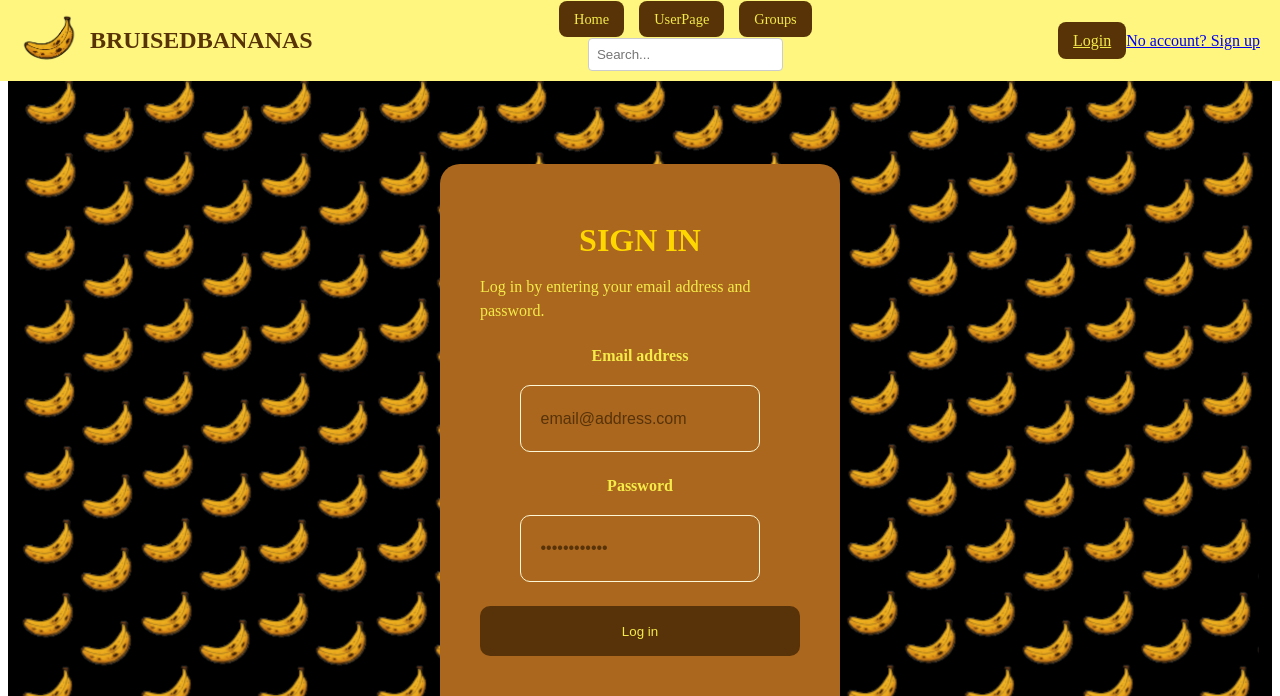
Login component (new tests) › shows backend error on invalid credentials
The width and height of the screenshot is (1280, 696).
Type "wrong@test.com" into the field with placeholder "email@address.com". click: (644,419)
box: left=538, top=393, right=750, bottom=445
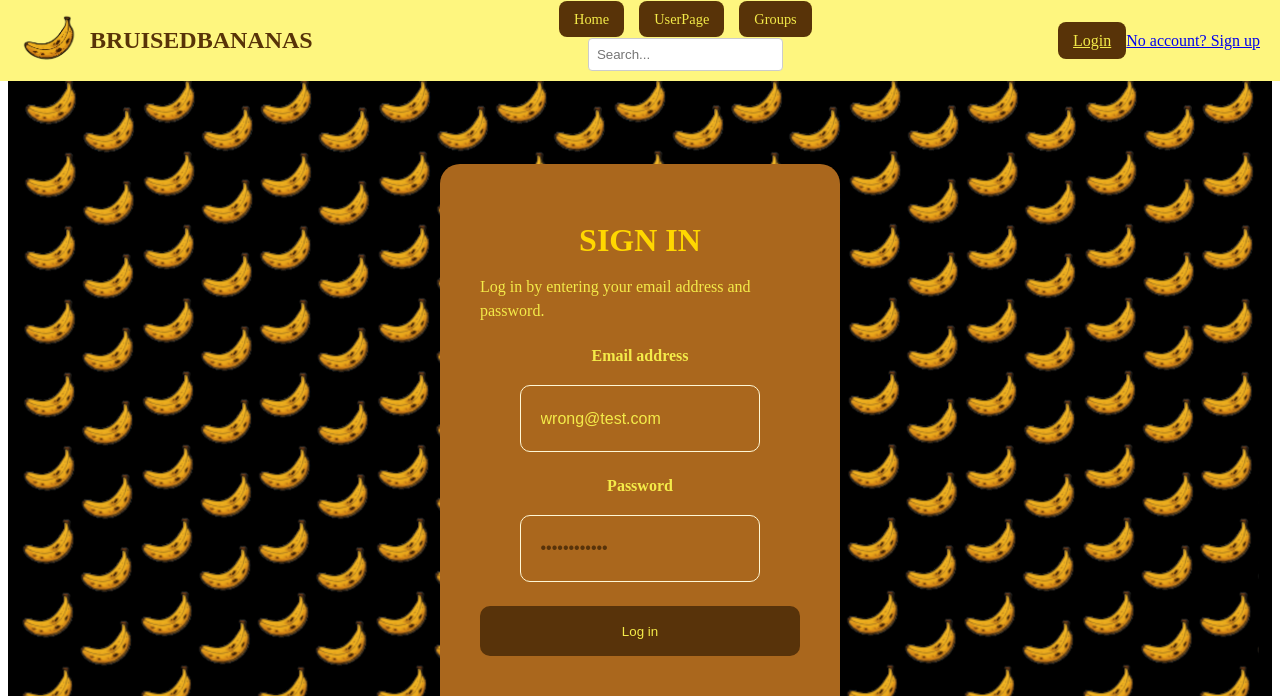
Type "wrongpass" into the password field with placeholder "••••••••••••". click: (644,548)
box: left=538, top=522, right=750, bottom=574
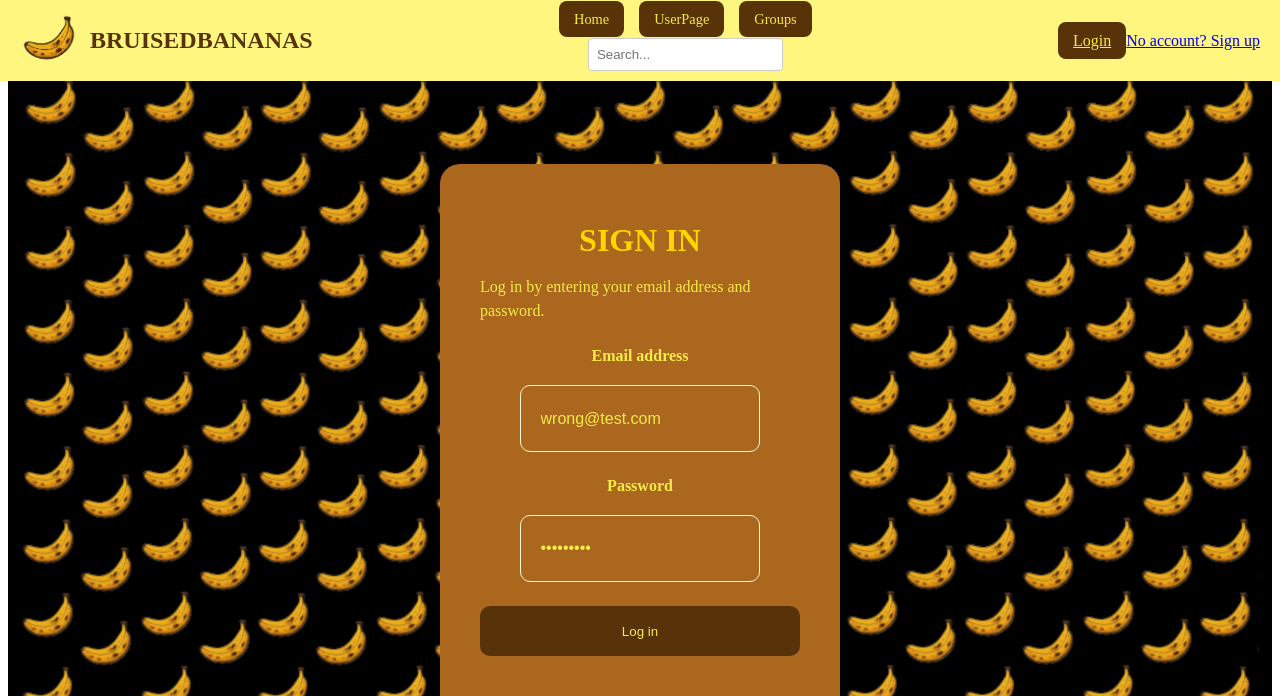
Click the button "Log in". click: (640,631)
box: left=480, top=606, right=800, bottom=656
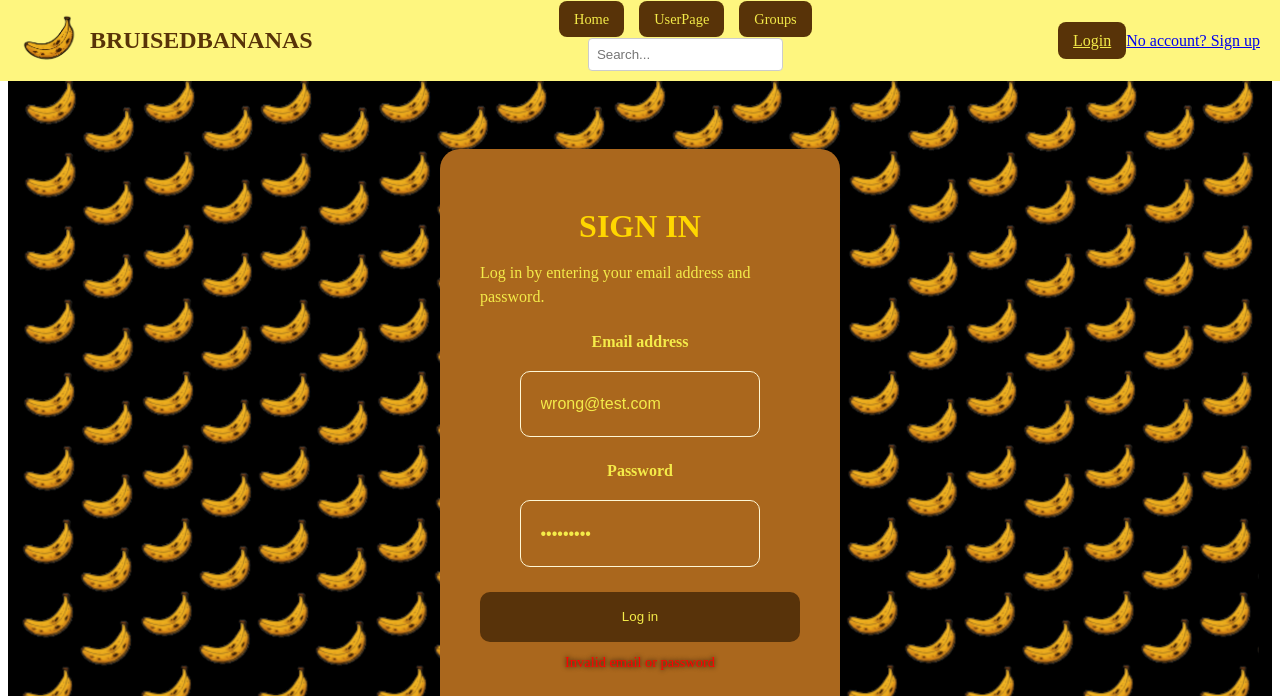
expect the text "Invalid email or password" is shown: met, box left=565, top=654, right=715, bottom=671
